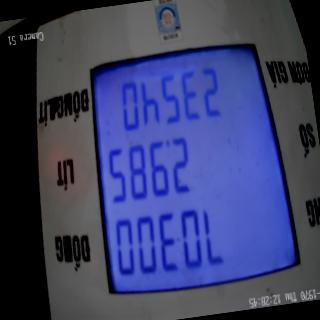screen: (72, 31, 308, 320)
